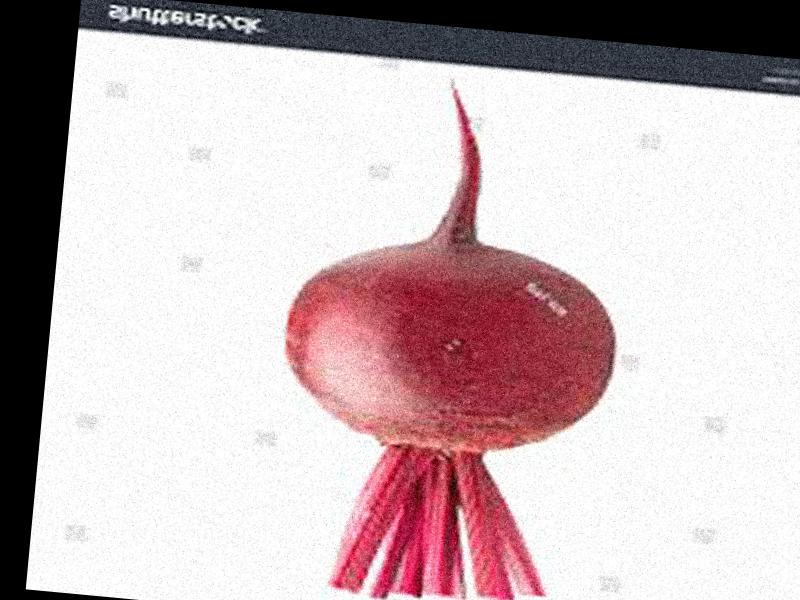Beet: (263, 65, 639, 600)
